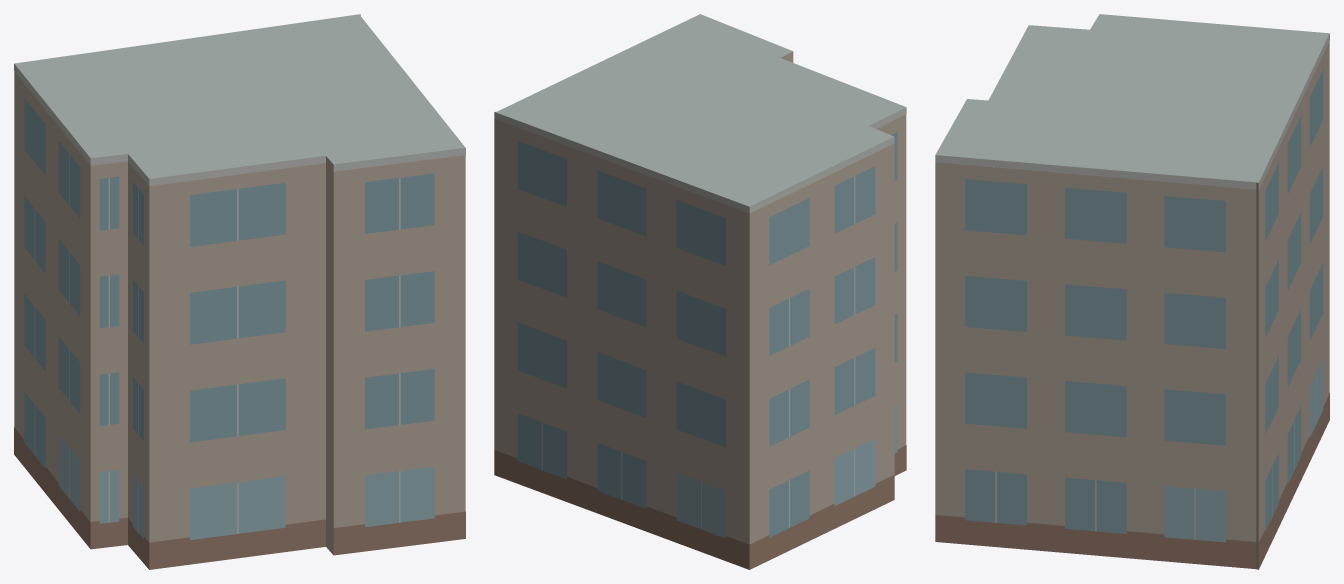
File: survey-upis-33029472.glb
3 renders of one model, left to right at view 1: azimuth 30°, elevation 25°; view 2: azimuth 150°, elevation 25°; view 3: azimuth 270°, elevation 25°, orthographic. The views are drawn at different scales.
Visible parts, largest first — view 1: survey-upis-33029472.tmp; view 2: survey-upis-33029472.tmp; view 3: survey-upis-33029472.tmp.
Boxes of the visible parts, x1=… form: survey-upis-33029472.tmp: x1=14, y1=14, x2=465, y2=569; survey-upis-33029472.tmp: x1=494, y1=14, x2=906, y2=569; survey-upis-33029472.tmp: x1=935, y1=14, x2=1329, y2=569.
Size of the model in its own units: 12.2 by 13 by 12.02.
